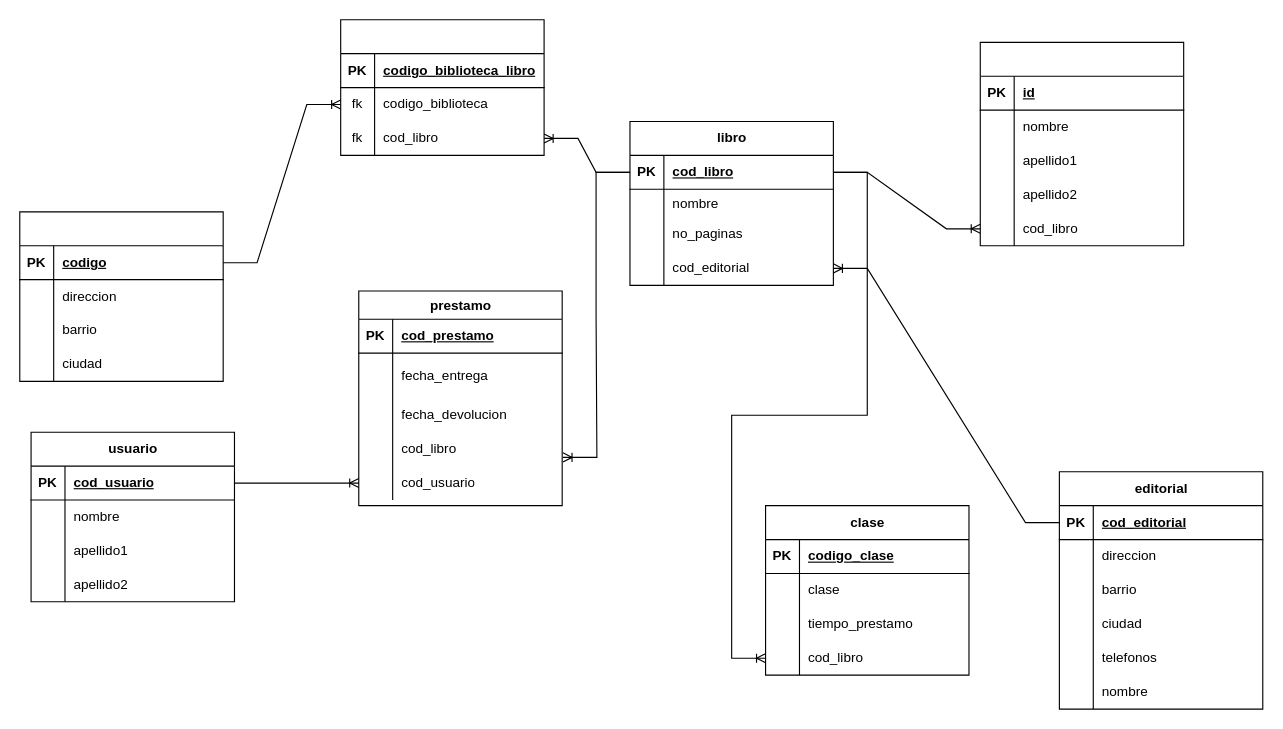
Image size: 1283x729. Some labels were removed from this diagram. Each missing label, with the box of its shape:
autor: (979, 41, 1184, 246)
bibilioteca_libro: (340, 19, 544, 155)
Biblioteca: (19, 211, 223, 381)
